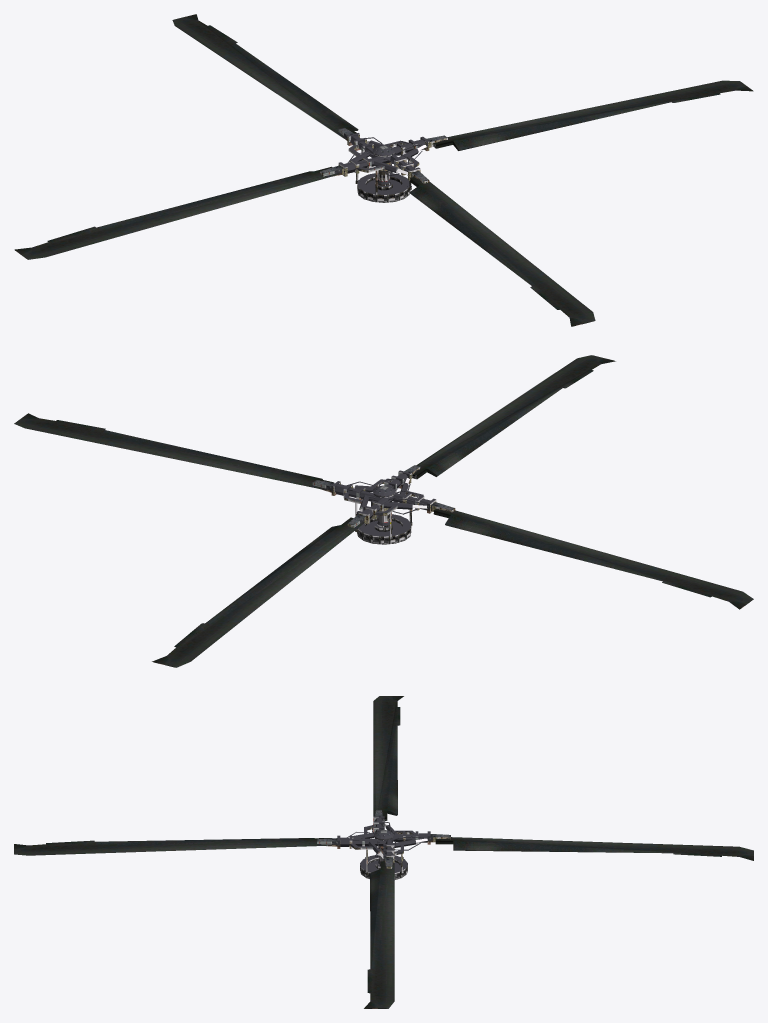
The model's file is helicea.glb.
The picture shows the model from 3 angles, top to bottom: view 1: azimuth 30°, elevation 25°; view 2: azimuth 150°, elevation 25°; view 3: azimuth 270°, elevation 25°; orthographic projection. The views are drawn at different scales.
Parts seen in each view (by area): view 1: main_rotor; view 2: main_rotor; view 3: main_rotor.
Part boxes in pixels (<box>): main_rotor: <box>14,14,753,326</box>; main_rotor: <box>14,355,753,667</box>; main_rotor: <box>14,696,753,1008</box>.
Bounding box in the file's own units: 8.09 × 0.4814 × 8.09.
2 materials, 2 textured.
